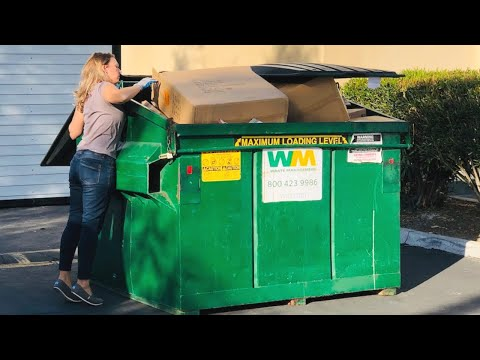Dumpster: (47, 58, 430, 314)
Person: (54, 52, 149, 308)
